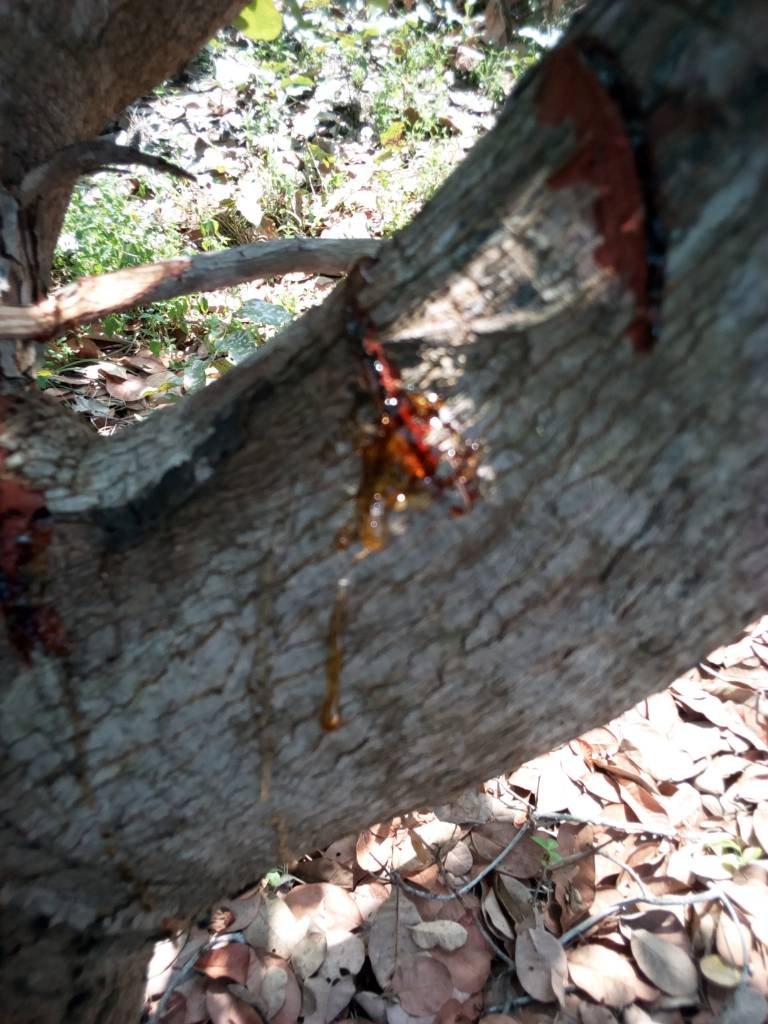Gommose: (324, 280, 449, 725)
